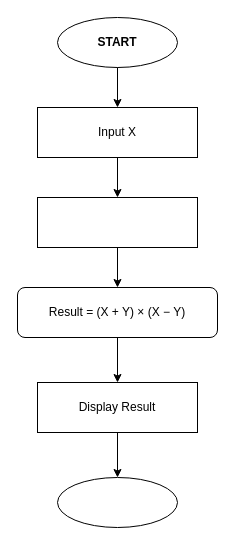
Some shapes in this 235 by 545 pixel diagram are drawn without their labels. The box of each missing label's shape, as (x1, y1, x2, y2) in pixels:
END: (56, 476, 178, 528)
Input Y: (36, 196, 198, 248)
